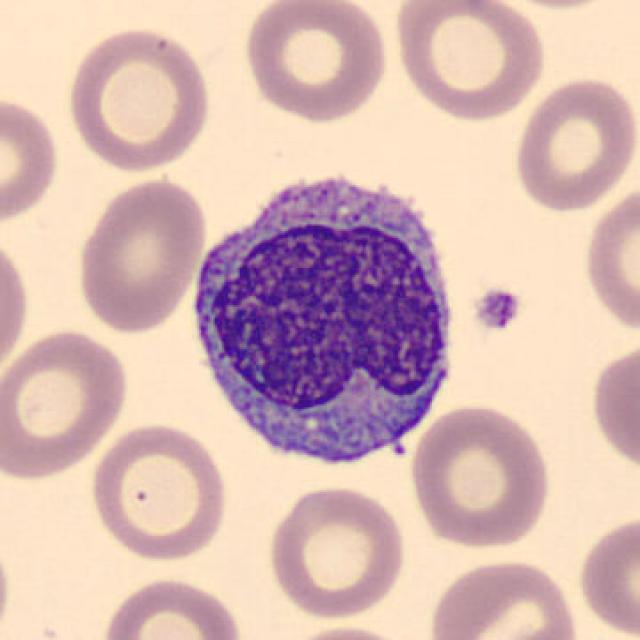Monocyte: (178, 155, 468, 481)
Platelets: (469, 282, 526, 335)
RBC: (62, 23, 215, 174), (405, 400, 555, 552), (73, 175, 210, 335), (85, 418, 231, 564), (0, 324, 133, 482), (263, 482, 411, 622), (389, 0, 549, 123), (238, 0, 391, 125), (508, 72, 638, 215), (423, 555, 583, 640), (98, 573, 247, 640), (580, 176, 638, 338), (0, 90, 64, 227), (574, 510, 638, 638), (587, 335, 638, 481), (0, 230, 32, 384), (276, 622, 422, 640), (480, 0, 627, 12), (0, 527, 14, 640)
